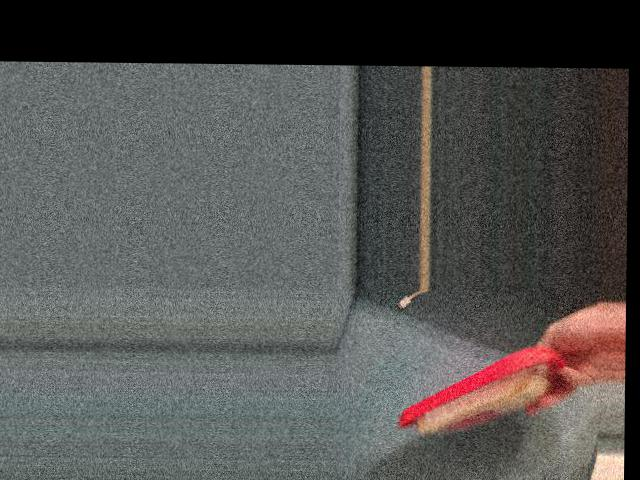cheese: (397, 336, 566, 442)
